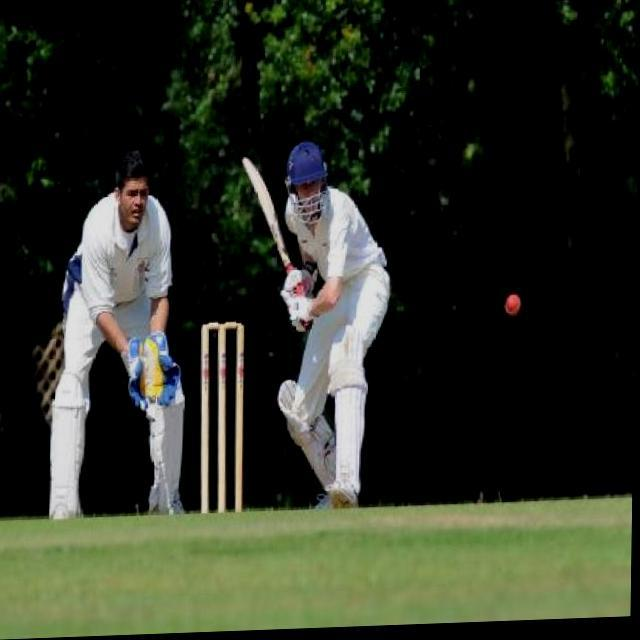-: (494, 266, 533, 346)
